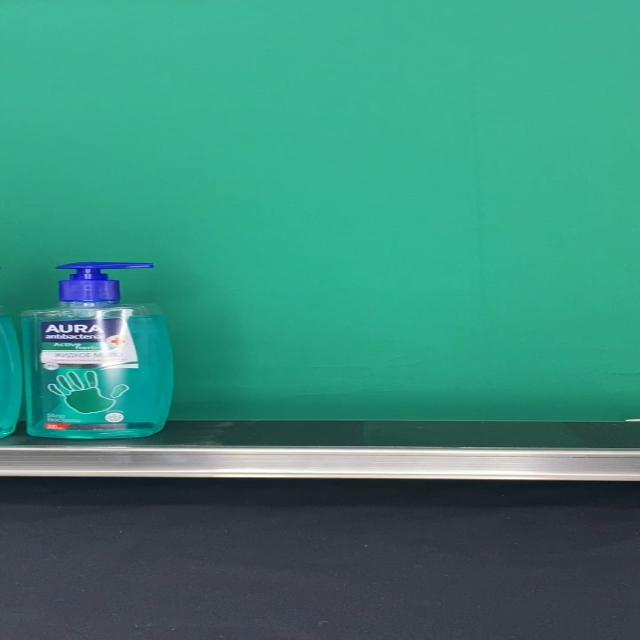Bottle: (20, 262, 174, 438)
Cap: (57, 261, 155, 301)
